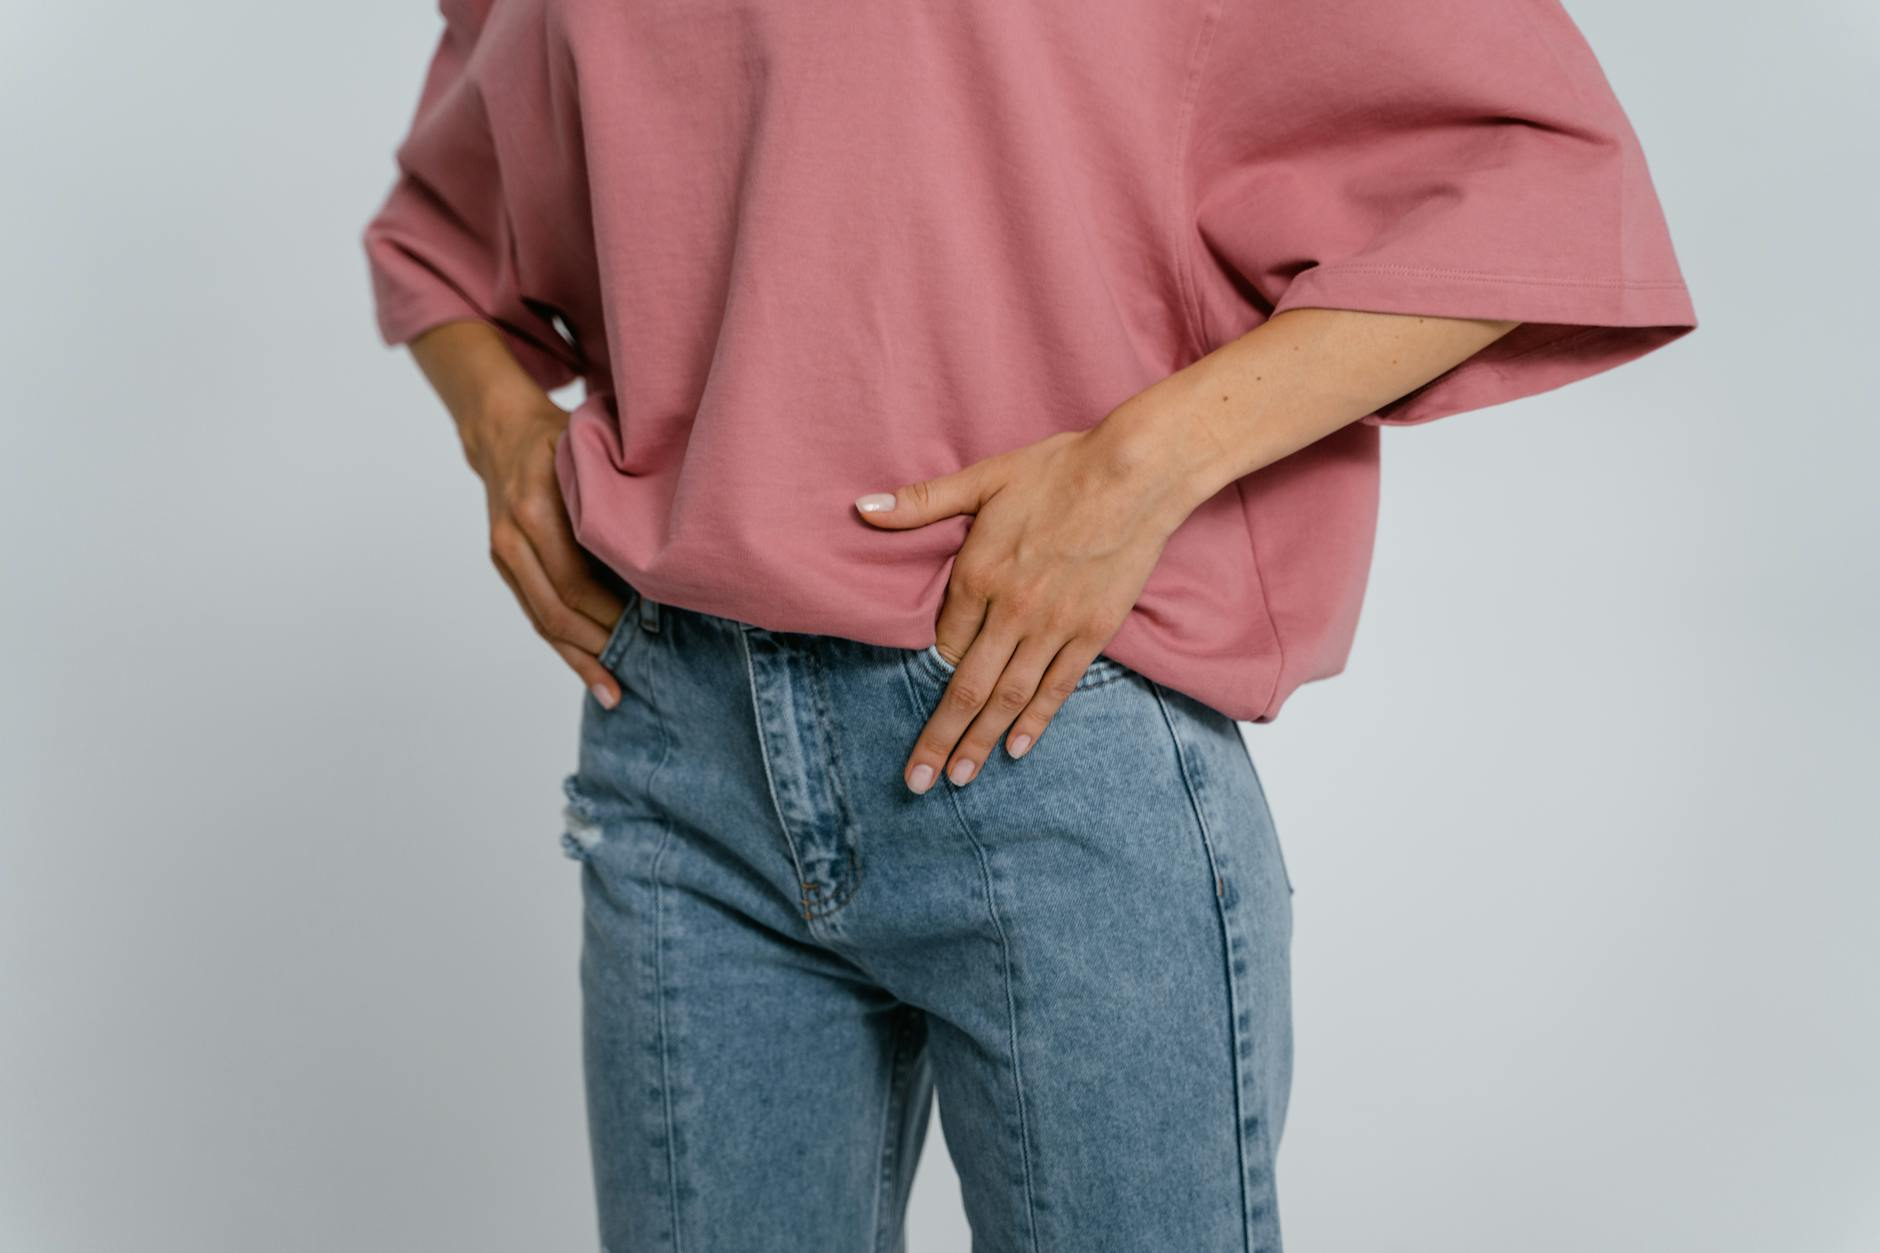ripped_jeans: (507, 673, 1313, 1253)
